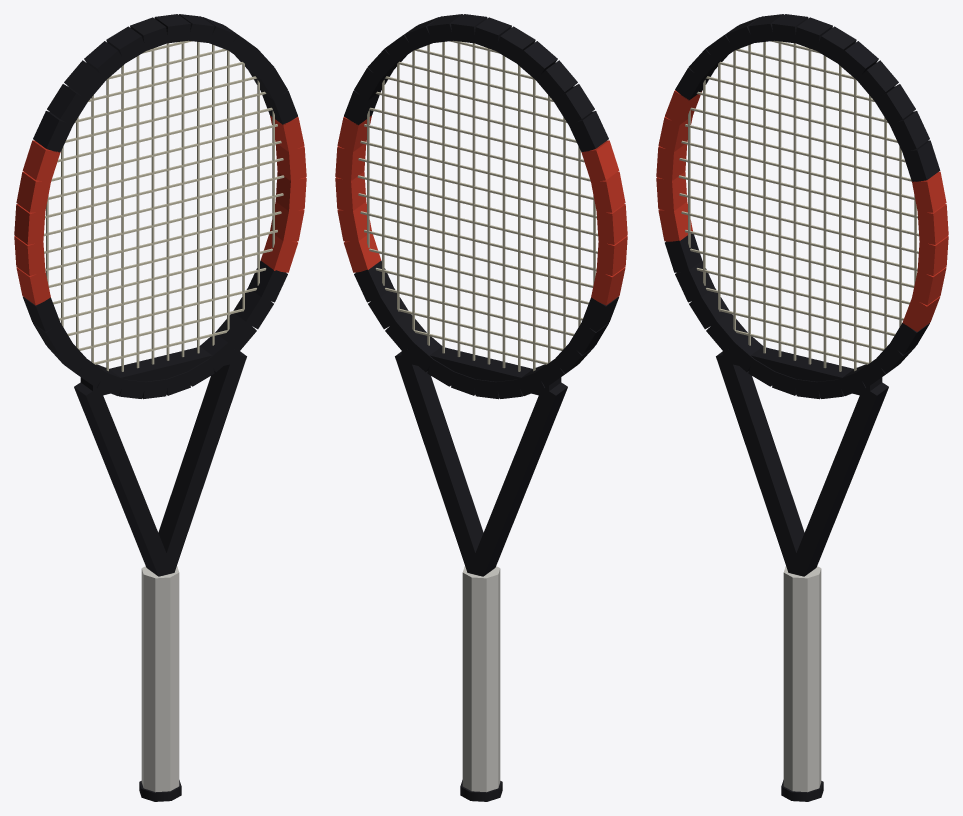
File: gb-racket.glb
The picture shows the model from 3 angles, left to right: view 1: azimuth 30°, elevation 25°; view 2: azimuth 150°, elevation 25°; view 3: azimuth 330°, elevation 25°; orthographic projection.
Visible parts, largest first — view 1: gb-racket; view 2: gb-racket; view 3: gb-racket.
Part boxes in pixels (box(x1,y1,x2,y2)): gb-racket: box(14, 14, 306, 801); gb-racket: box(335, 14, 627, 801); gb-racket: box(656, 14, 948, 801).
Bounding box in the file's own units: 0.265 × 0.6995 × 0.036.
